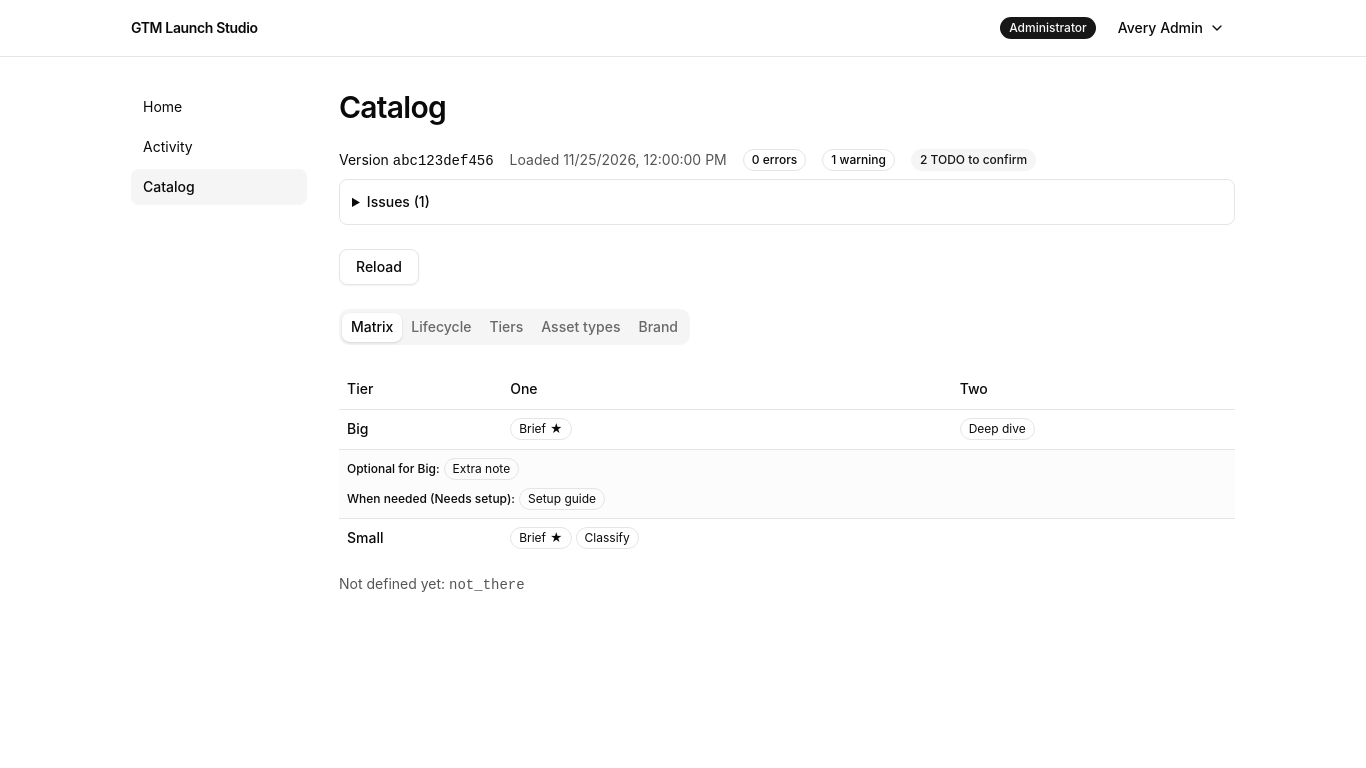
it: CatalogPage › tabs › Tiers shows each tier's description, criteria, channels and timing
Expected: the heading "Catalog" is shown, [339,89,446,125]
Click the tab "Tiers".
click(506, 327)  # box [480,312,532,342]
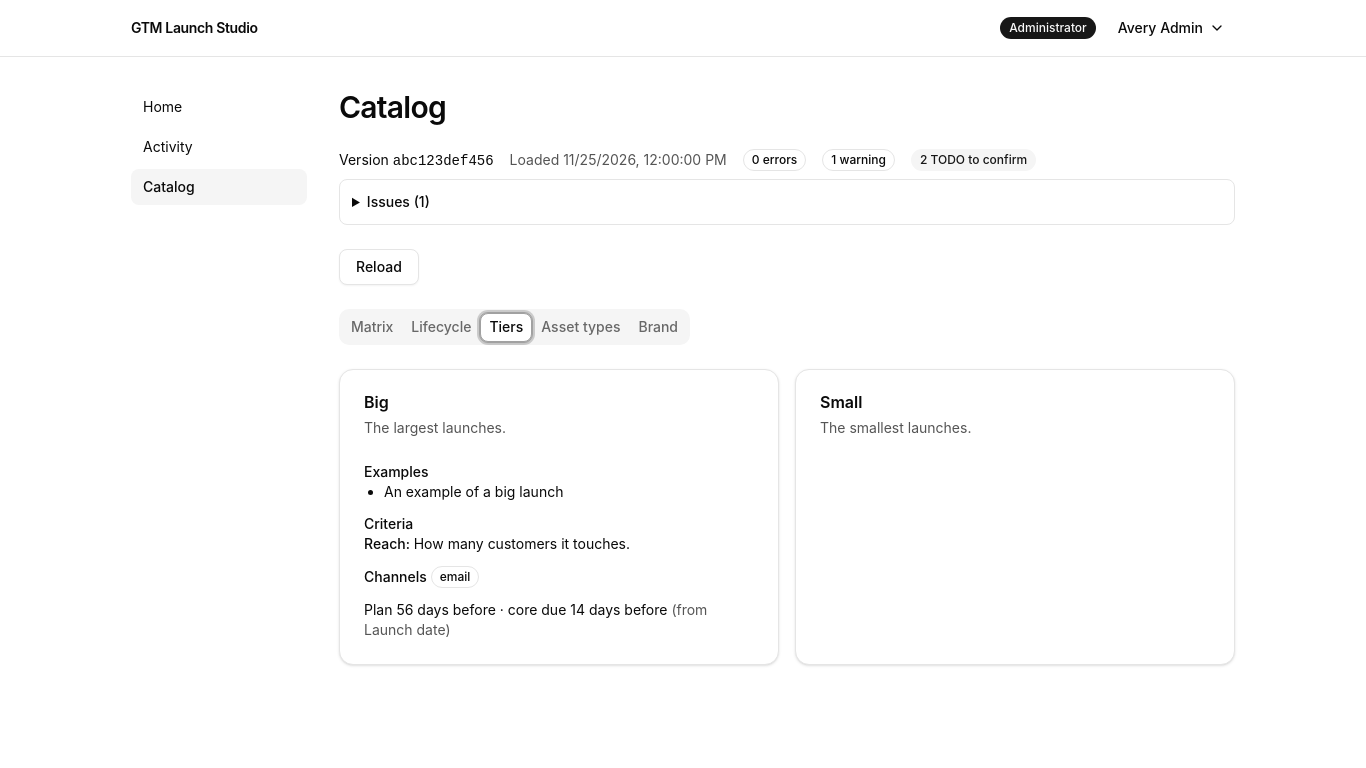
Expected: the text "The largest launches." is shown, [364,419,506,436]
Expected: the list item "An example of a big launch" is shown, [384,483,563,500]
Expected: the text "Reach:" is shown, [364,535,414,552]
